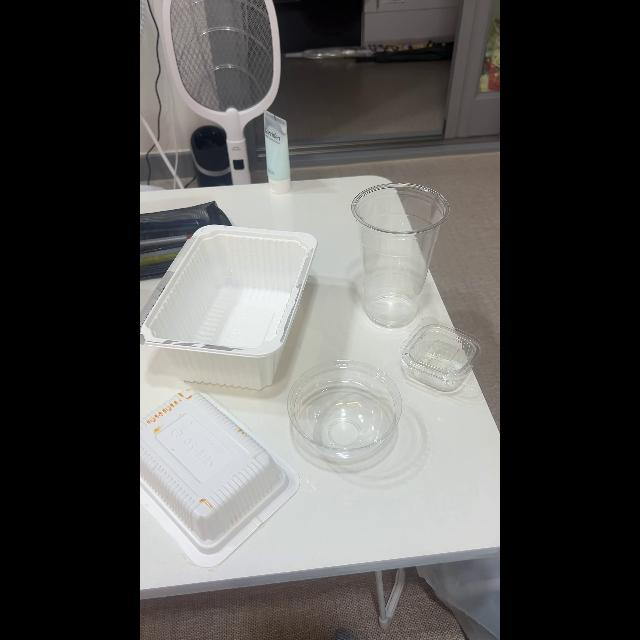clean: (140, 228, 316, 382), (353, 183, 449, 324), (288, 359, 402, 458), (400, 320, 482, 390)
dirty: (140, 391, 284, 544)
